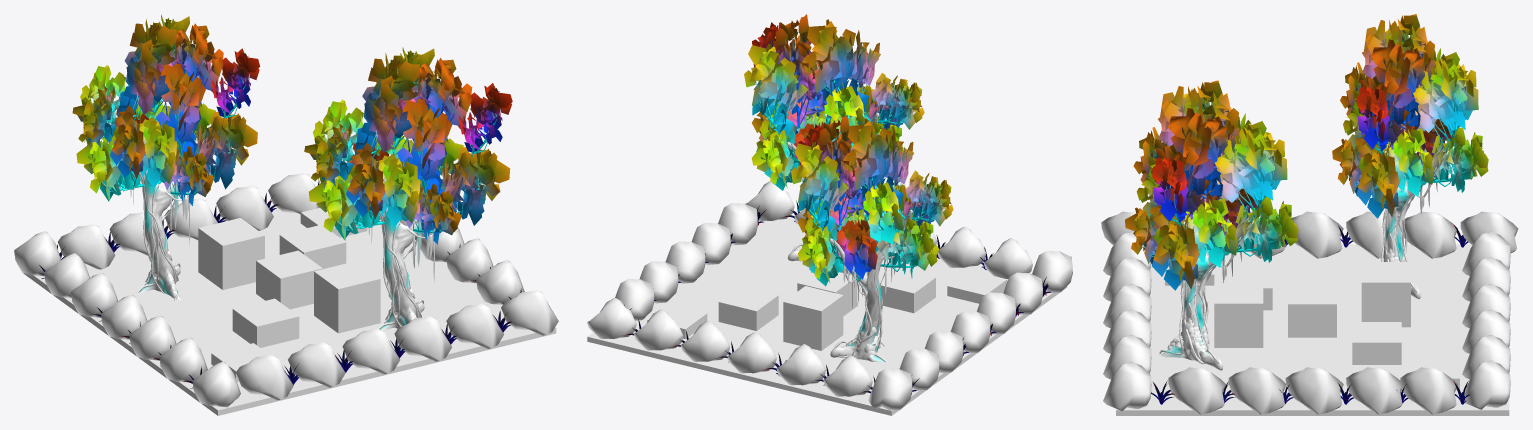
The model's file is DM-Tanuki.fbx.
3 renders of one model, left to right at view 1: azimuth 30°, elevation 25°; view 2: azimuth 150°, elevation 25°; view 3: azimuth 270°, elevation 25°, orthographic. The views are drawn at different scales.
Visible parts, largest first — view 1: StaticMeshActor_966, StaticMeshActor_967, Brush_6, Brush_21, Brush_23, Brush_20, Brush_17, Brush_18, StaticMeshActor_969, StaticMeshActor_992, StaticMeshActor_973, StaticMeshActor_974 (+19 smaller); view 2: StaticMeshActor_967, Brush_6, StaticMeshActor_966, Brush_23, Brush_18, Brush_17, StaticMeshActor_977, StaticMeshActor_988, StaticMeshActor_975, StaticMeshActor_991, StaticMeshActor_974, StaticMeshActor_990 (+18 smaller); view 3: StaticMeshActor_966, Brush_6, StaticMeshActor_967, Brush_21, Brush_23, Brush_20, Brush_18, StaticMeshActor_981, StaticMeshActor_982, StaticMeshActor_978, StaticMeshActor_980, StaticMeshActor_979 (+19 smaller).
Part boxes in pixels (bbox=[...]): StaticMeshActor_966: bbox=[304, 47, 512, 330]; StaticMeshActor_967: bbox=[72, 14, 260, 300]; Brush_6: bbox=[23, 206, 556, 415]; Brush_21: bbox=[314, 261, 380, 333]; Brush_23: bbox=[198, 218, 264, 289]; Brush_20: bbox=[256, 250, 322, 309]; Brush_17: bbox=[232, 298, 299, 347]; Brush_18: bbox=[279, 224, 346, 268]; StaticMeshActor_969: bbox=[236, 355, 293, 400]; StaticMeshActor_992: bbox=[446, 303, 503, 348]; StaticMeshActor_973: bbox=[342, 328, 400, 374]; StaticMeshActor_974: bbox=[288, 342, 345, 387]; StaticMeshActor_967: bbox=[791, 115, 953, 362]; Brush_6: bbox=[587, 215, 1067, 415]; StaticMeshActor_966: bbox=[744, 14, 924, 261]; Brush_23: bbox=[783, 286, 843, 350]; Brush_18: bbox=[718, 286, 778, 330]; Brush_17: bbox=[879, 268, 935, 313]; StaticMeshActor_977: bbox=[868, 368, 912, 410]; StaticMeshActor_988: bbox=[634, 309, 683, 350]; StaticMeshActor_975: bbox=[823, 355, 872, 396]; StaticMeshActor_991: bbox=[776, 344, 825, 385]; StaticMeshActor_974: bbox=[937, 226, 986, 267]; StaticMeshActor_990: bbox=[727, 332, 776, 373]; StaticMeshActor_966: bbox=[1125, 80, 1298, 370]; Brush_6: bbox=[1116, 244, 1509, 415]; StaticMeshActor_967: bbox=[1332, 14, 1488, 298]; Brush_21: bbox=[1214, 282, 1263, 347]; Brush_23: bbox=[1361, 262, 1410, 327]; Brush_20: bbox=[1288, 283, 1336, 337]; Brush_18: bbox=[1352, 322, 1401, 364]; StaticMeshActor_981: bbox=[1228, 367, 1286, 414]; StaticMeshActor_982: bbox=[1168, 367, 1225, 414]; StaticMeshActor_978: bbox=[1400, 367, 1457, 414]; StaticMeshActor_980: bbox=[1285, 367, 1343, 414]; StaticMeshActor_979: bbox=[1346, 367, 1402, 414].
Size of the model in its own units: 2172 by 2172 by 1624.
